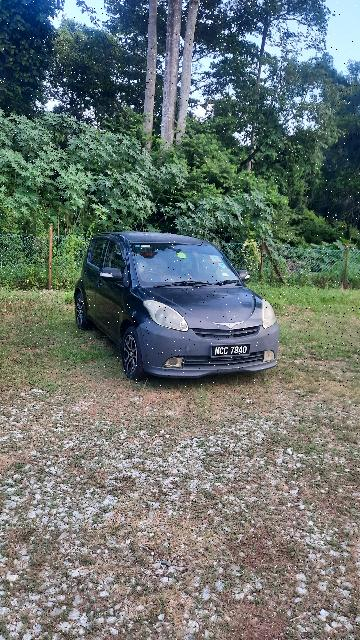License_Plate: (208, 341, 254, 359)
car: (72, 229, 290, 383)
